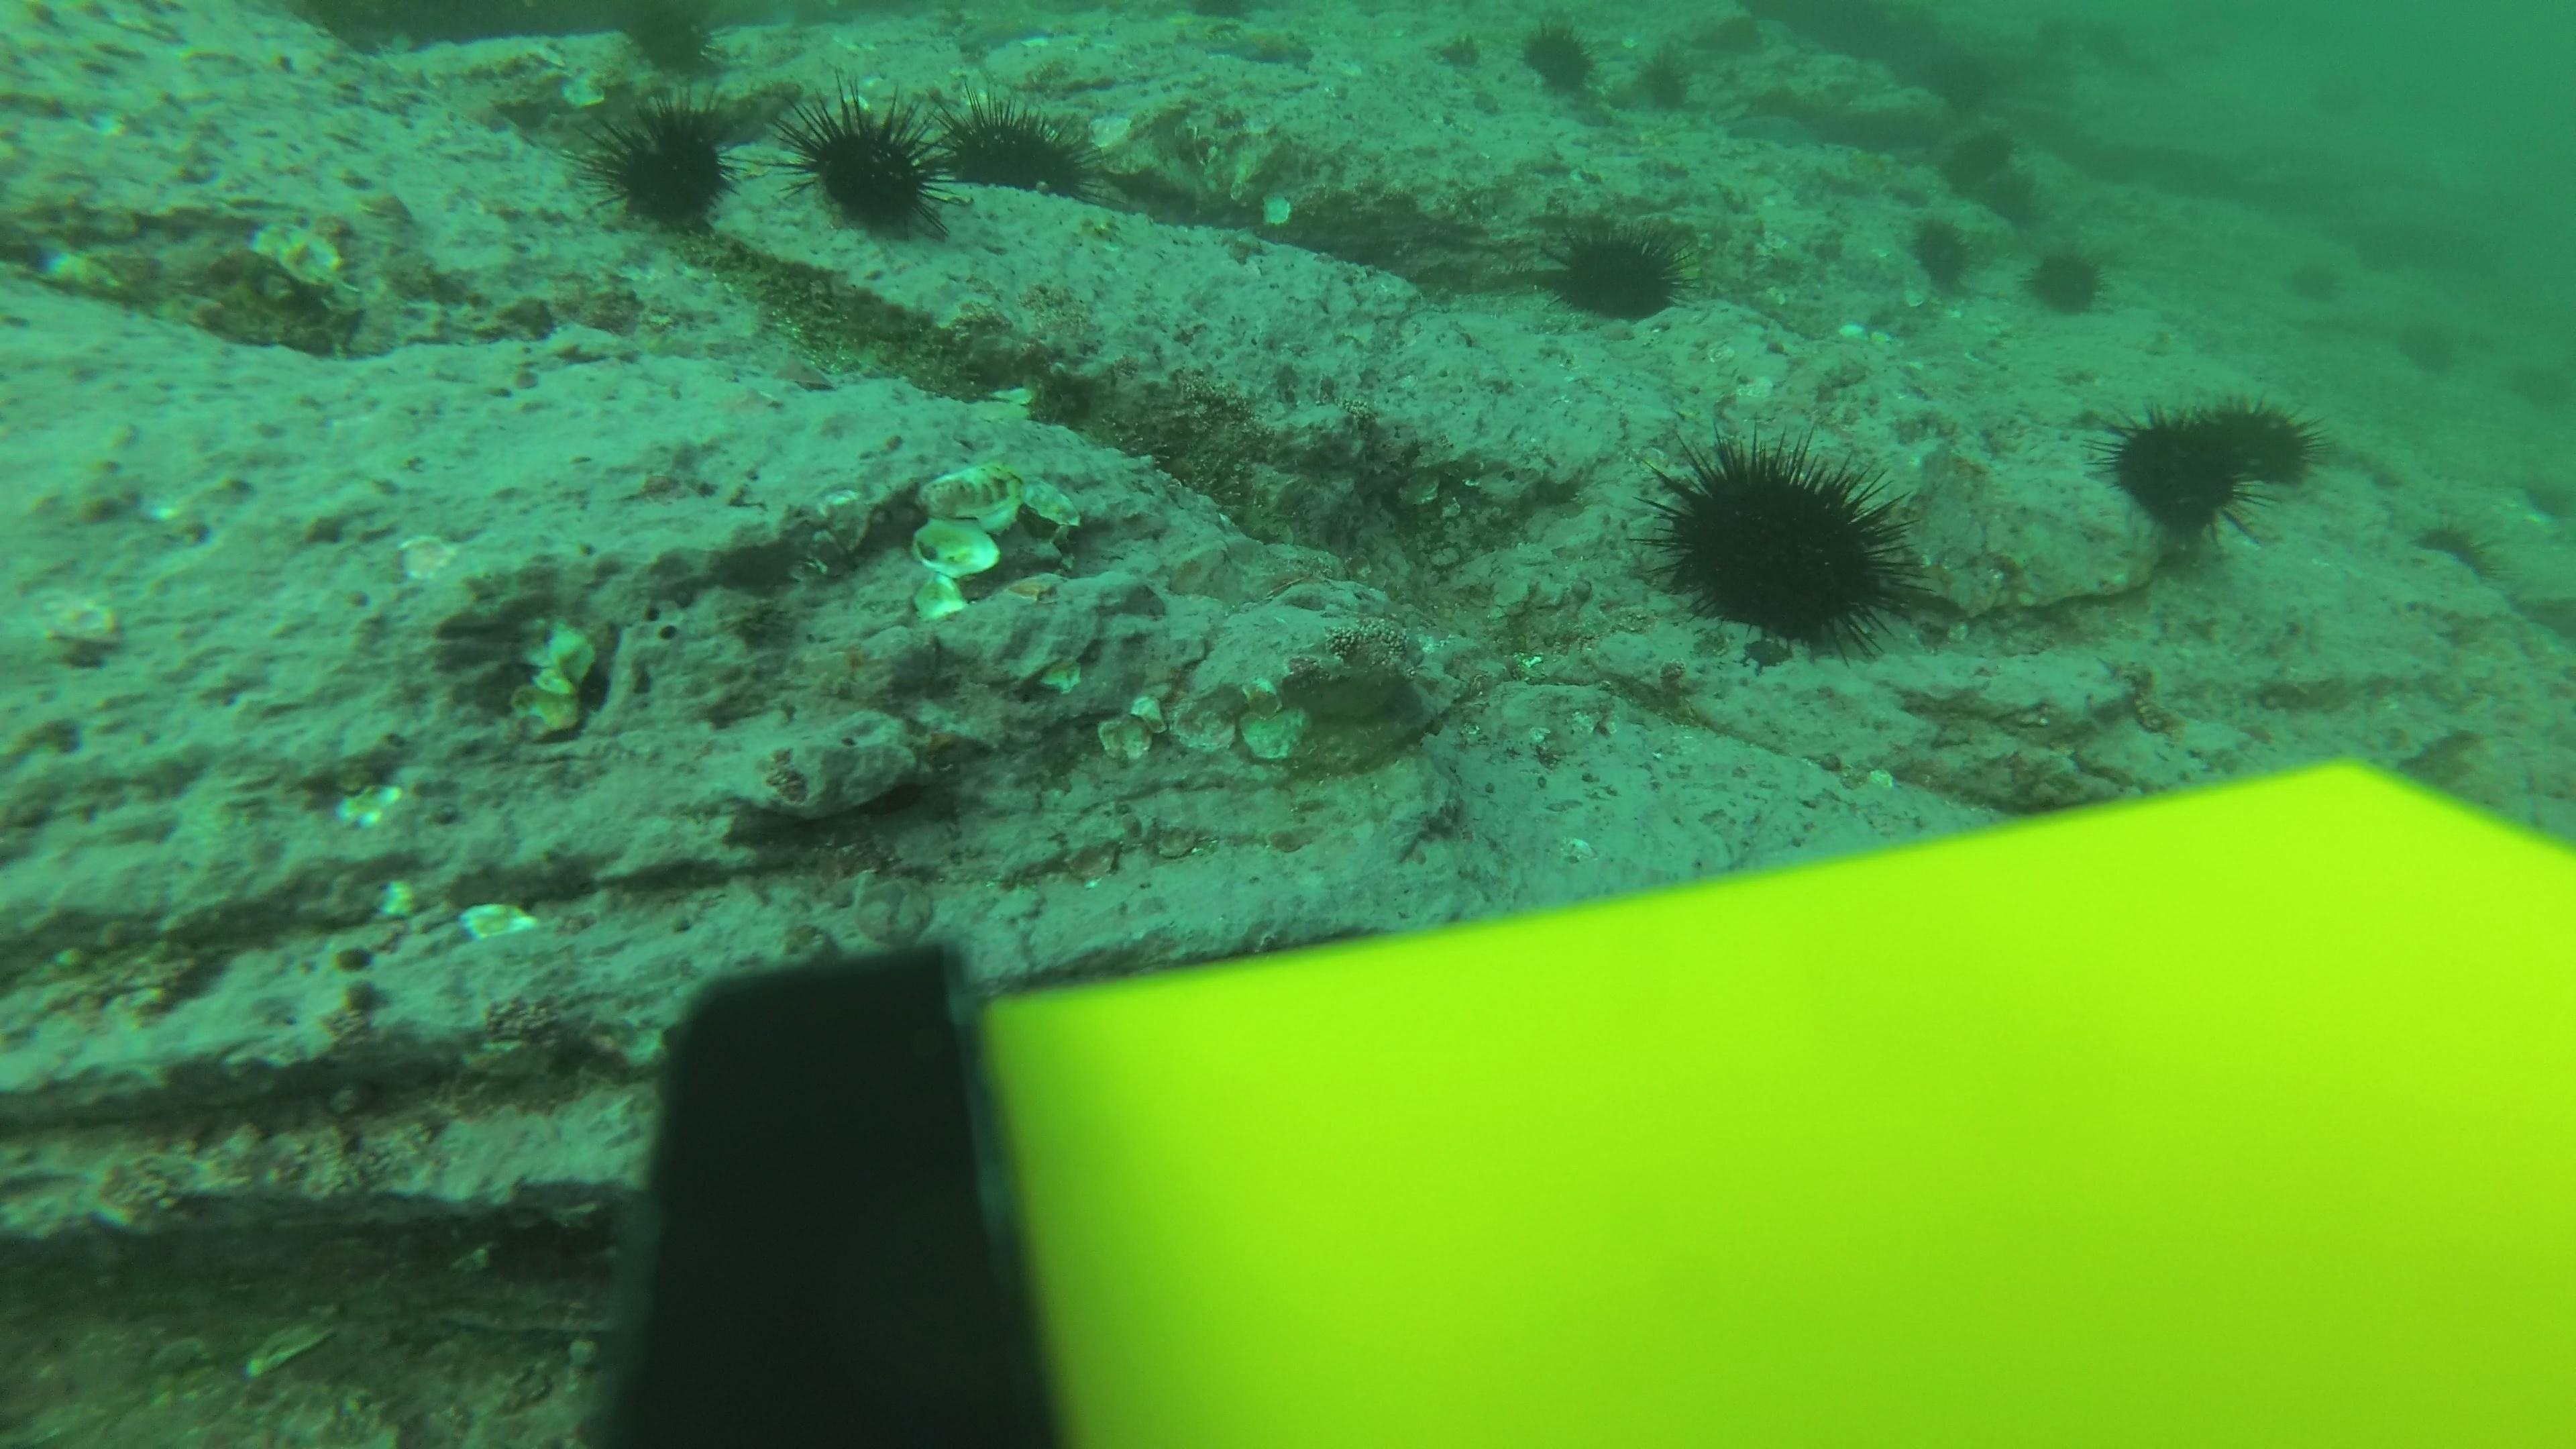echinus: (1640, 426, 1923, 658), (780, 83, 955, 244), (582, 94, 747, 235), (938, 94, 1097, 207), (2086, 418, 2235, 533), (1541, 214, 1691, 327), (2196, 391, 2323, 494), (1511, 18, 1617, 111), (609, 2, 729, 83), (2020, 237, 2116, 322), (2374, 317, 2470, 395), (2261, 246, 2357, 324), (1898, 211, 1983, 297), (2321, 219, 2415, 297), (2482, 343, 2576, 421), (1902, 25, 1996, 103), (1937, 115, 2031, 189), (1974, 173, 2058, 237), (1629, 48, 1700, 119)
starfish: (2410, 511, 2500, 575), (1718, 103, 1824, 154)
